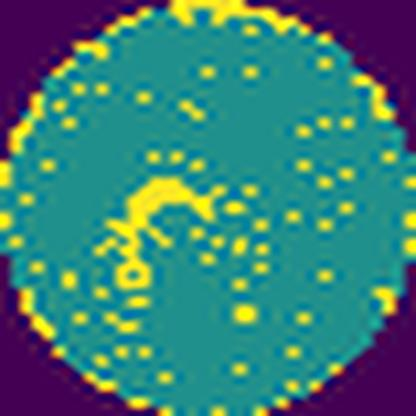Loc: (106, 173, 229, 290)
